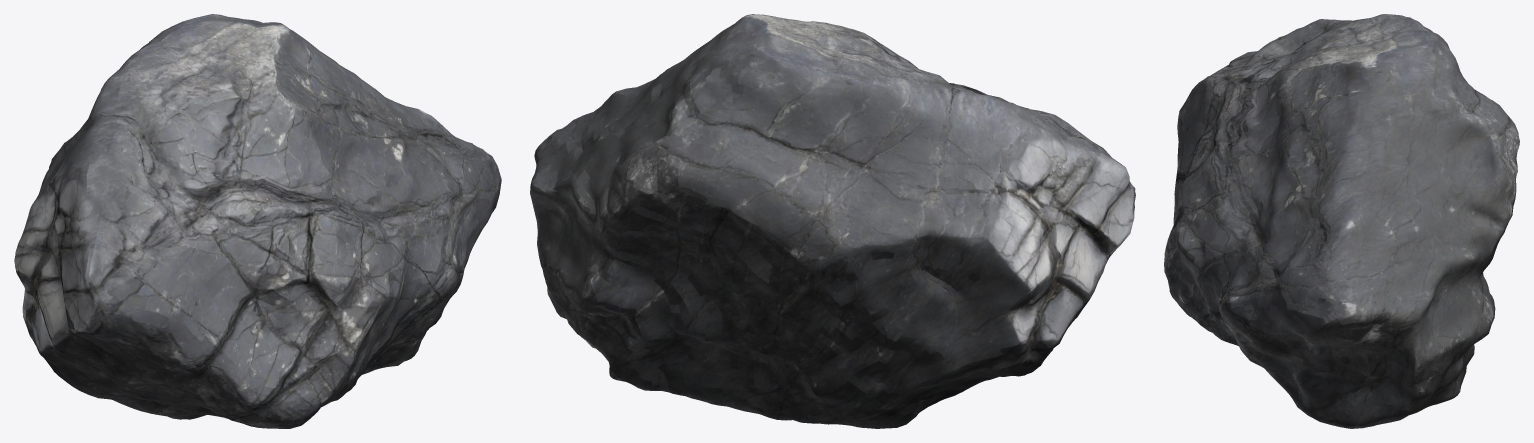
Rendered from erz.glb.
The picture shows the model from 3 angles, left to right: view 1: azimuth 30°, elevation 25°; view 2: azimuth 150°, elevation 25°; view 3: azimuth 270°, elevation 25°; orthographic projection. The views are drawn at different scales.
Bounding box in the file's own units: 1.99 × 1.4 × 1.38.
1 material, 1 textured.
